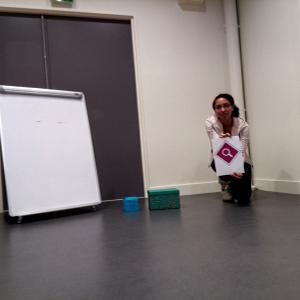search: (216, 141, 239, 164)
